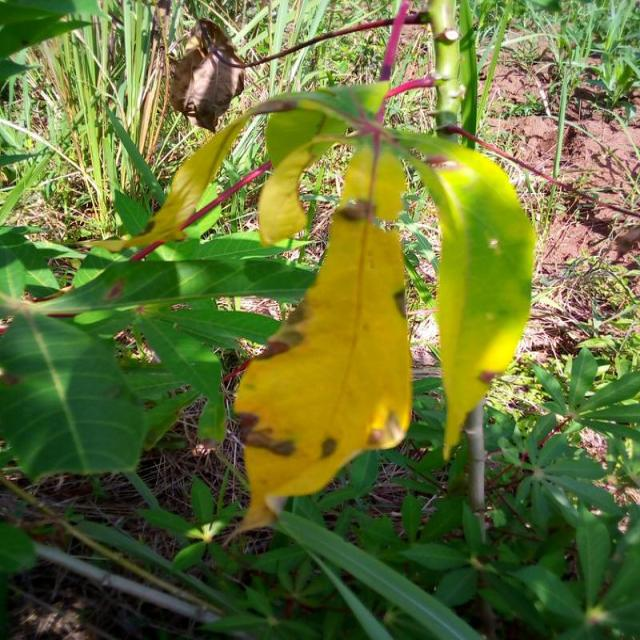cassava leaf: (226, 141, 414, 541), (414, 135, 536, 461), (0, 308, 148, 483)
